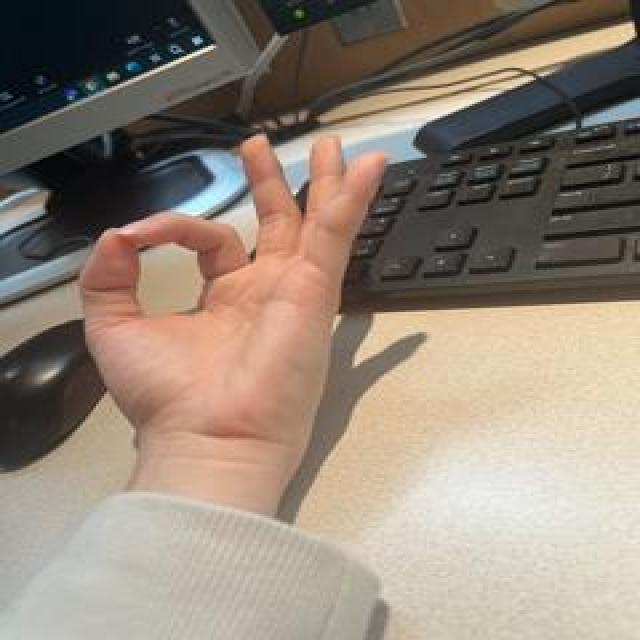F: (71, 127, 396, 453)
